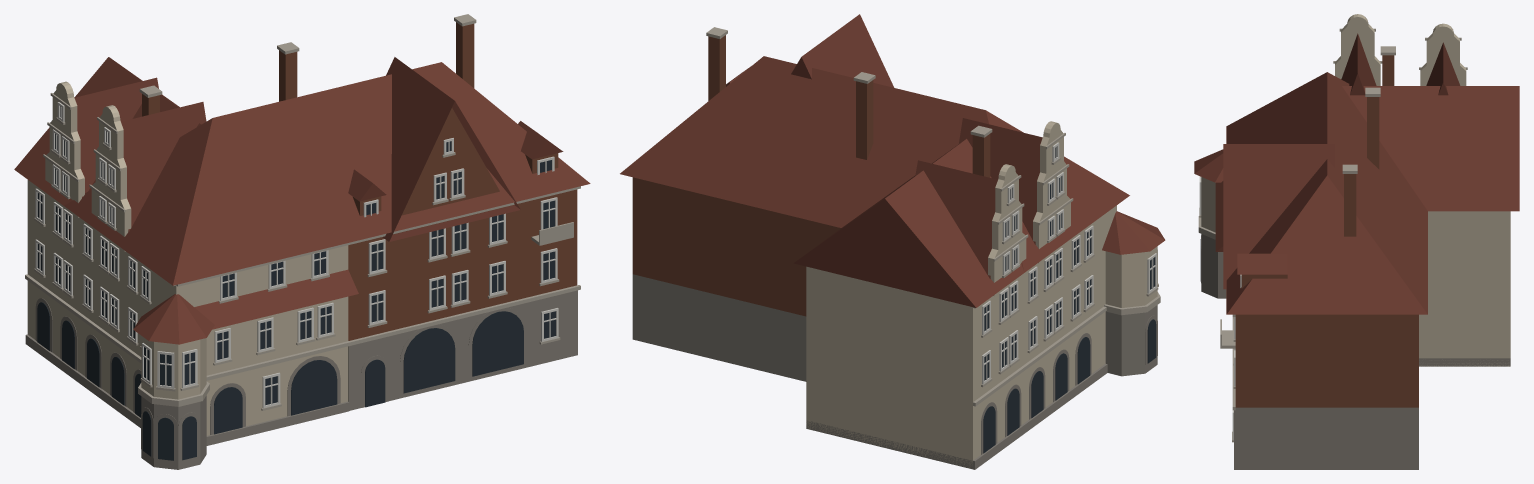
Rendered from kamienica_web_draco.glb.
The picture shows the model from 3 angles, left to right: view 1: azimuth 30°, elevation 25°; view 2: azimuth 150°, elevation 25°; view 3: azimuth 270°, elevation 25°; orthographic projection. The views are drawn at different scales.
Visible parts, largest first — view 1: Kamienica_web; view 2: Kamienica_web; view 3: Kamienica_web.
Boxes of the visible parts, left/top/right/bottom form: Kamienica_web: left=14, top=14, right=590, bottom=469; Kamienica_web: left=620, top=14, right=1165, bottom=469; Kamienica_web: left=1194, top=14, right=1519, bottom=469.
Bounding box in the file's own units: 31.31 × 20.4 × 21.31.
